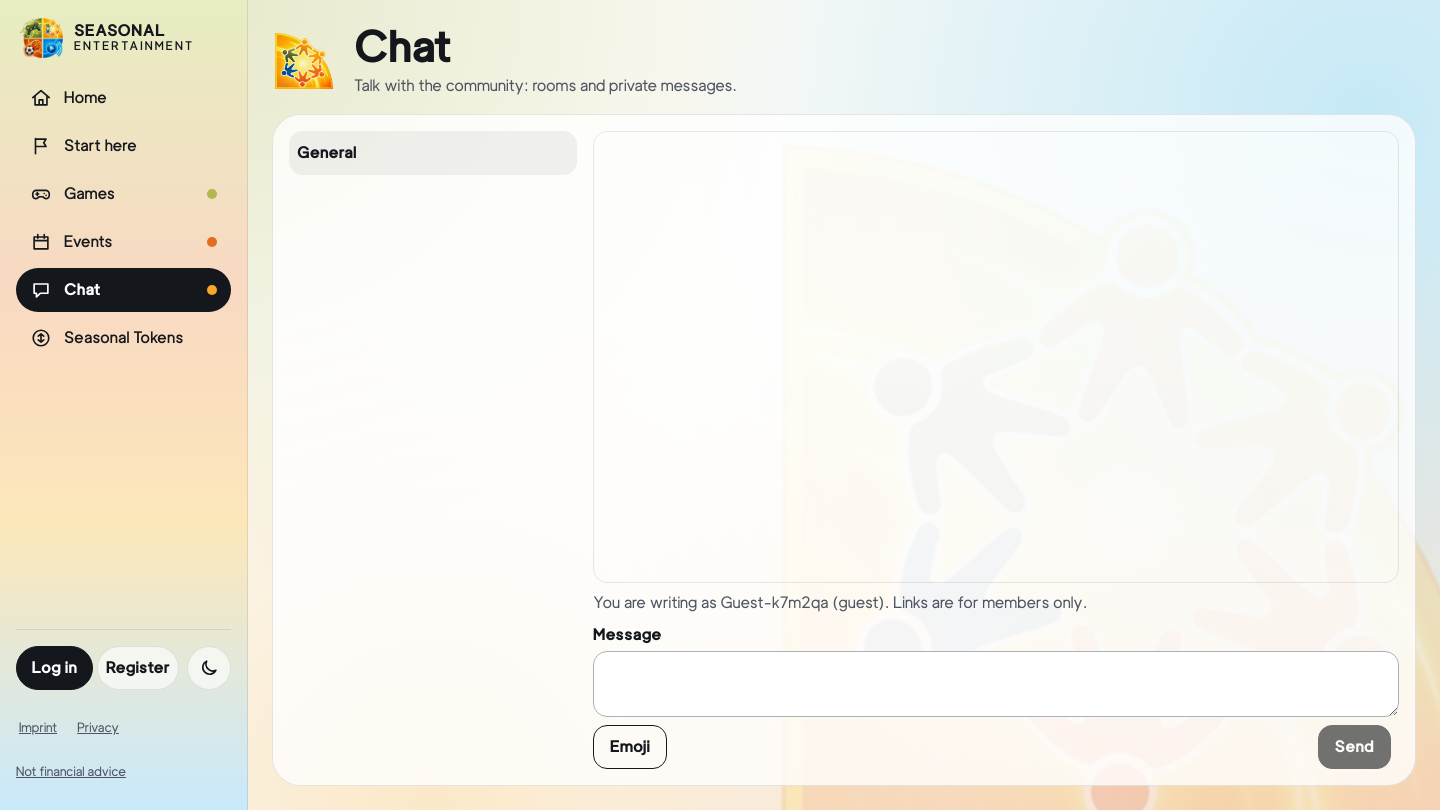
it: emoji picker › shows the emoji groups only when opened
Expected: the element "Seasons and nature" is not shown
Click the button "Emoji". click: (630, 747)
box: left=593, top=725, right=667, bottom=769
(page scrolled)
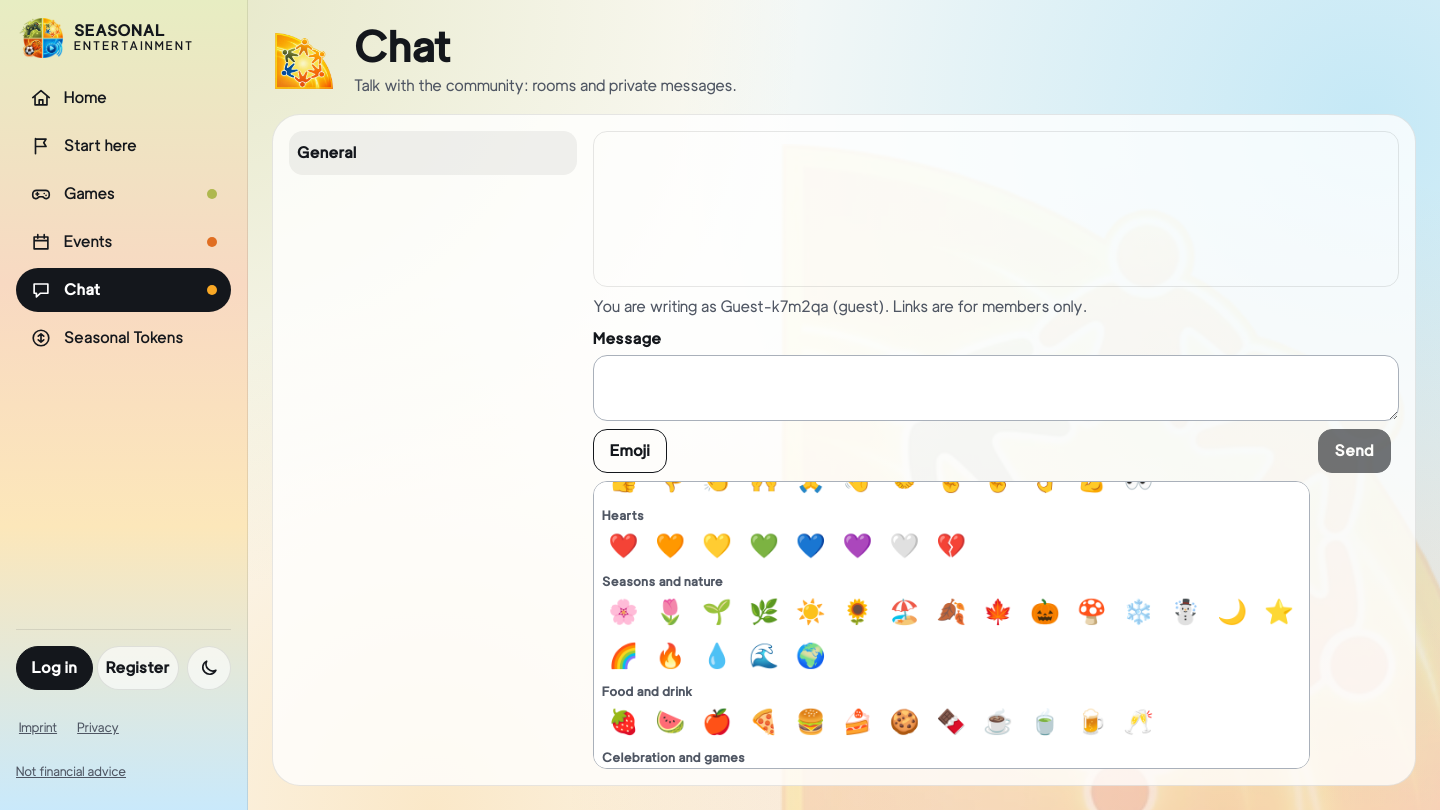
Expected: the button "Emoji" is expanded, left=593, top=429, right=667, bottom=473
Expected: the element "Seasons and nature" is shown, left=602, top=574, right=1300, bottom=676
